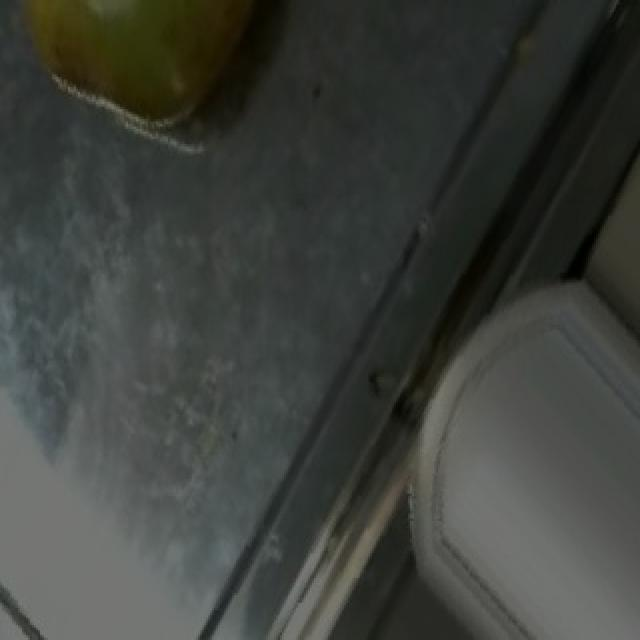fruit: (0, 0, 268, 166)
